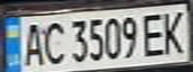0: (103, 15, 124, 61)
3: (66, 16, 90, 63)
5: (84, 15, 106, 62)
9: (118, 12, 142, 60)
A: (18, 19, 48, 69)
C: (39, 18, 69, 66)
E: (139, 10, 169, 57)
K: (157, 7, 193, 55)
